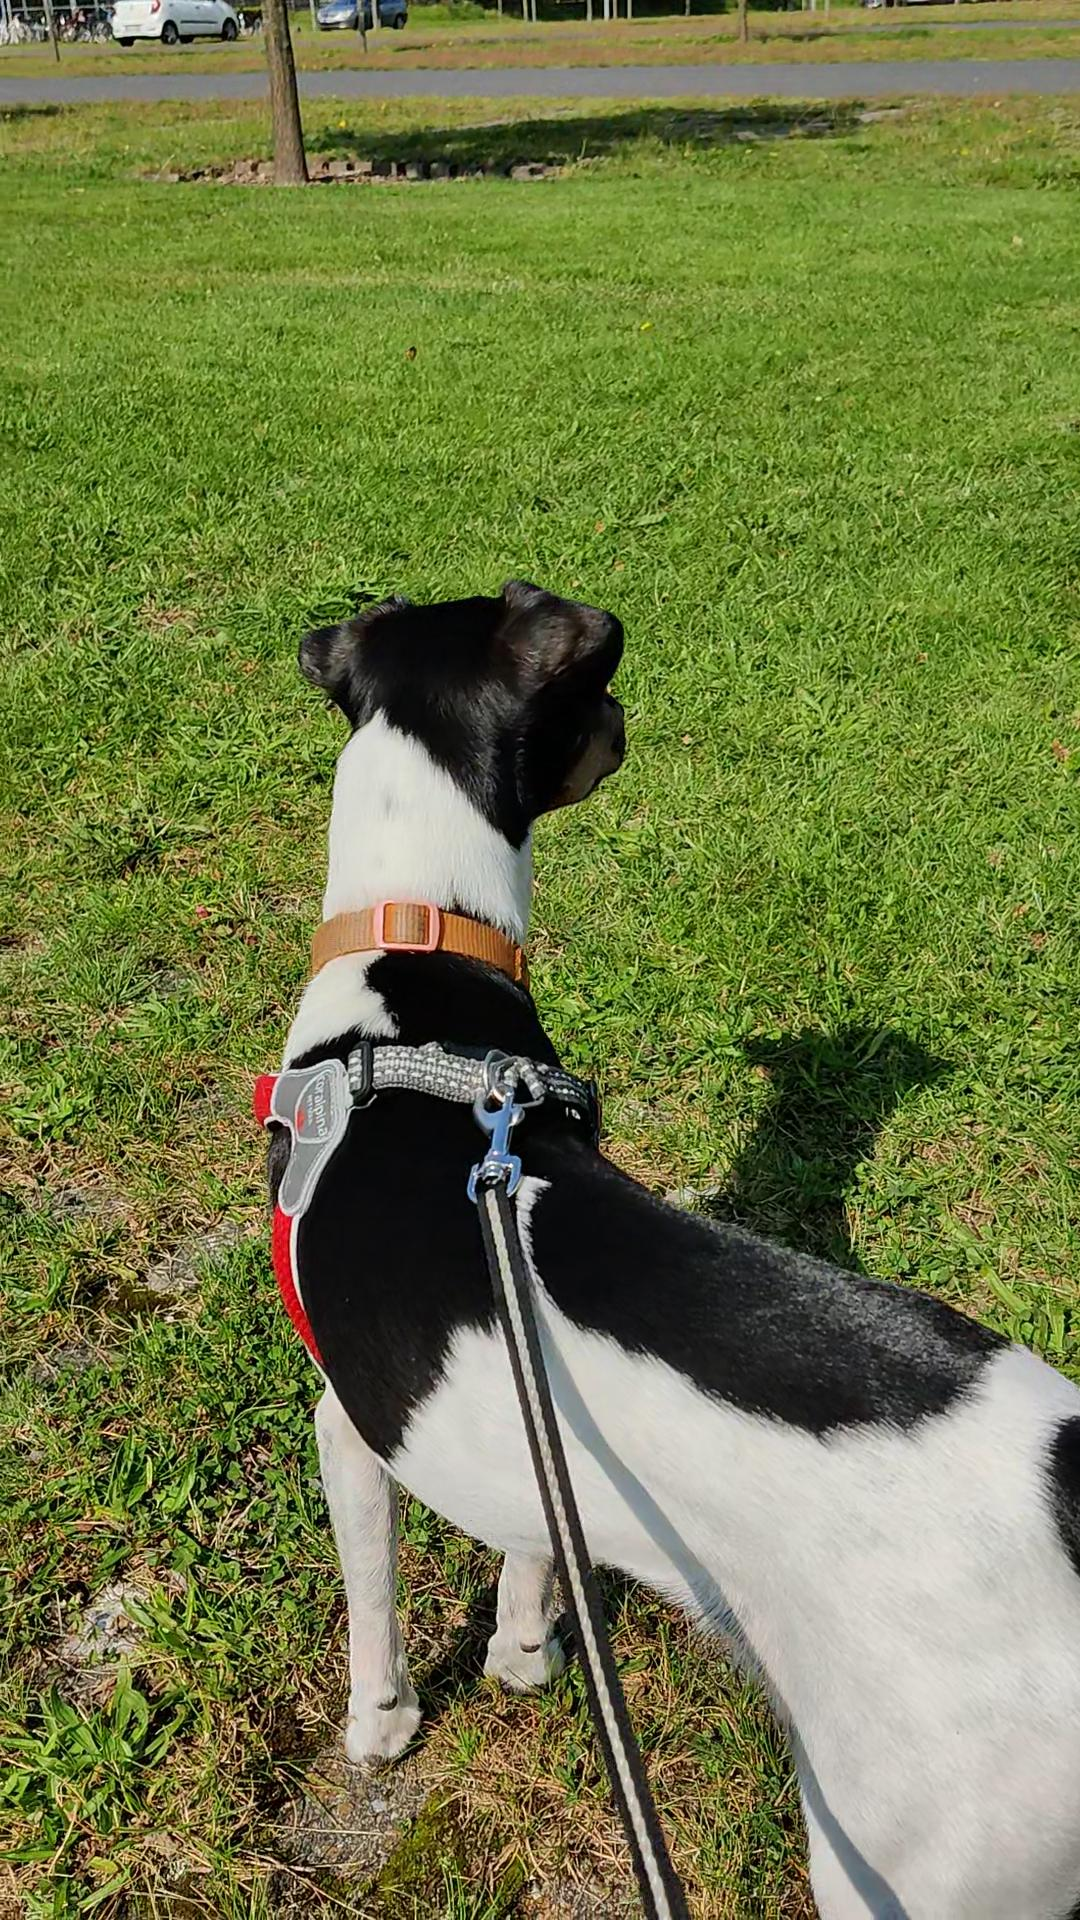Dog: (247, 545, 1079, 1919)
